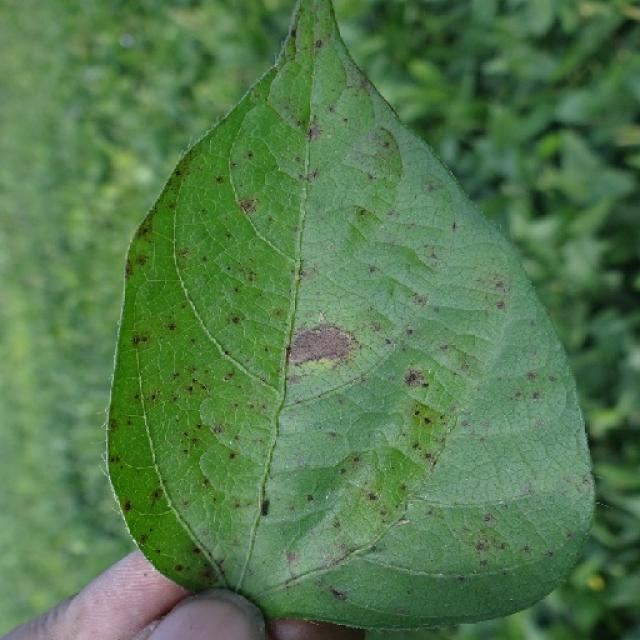Anthracnose: (293, 304, 372, 379), (468, 532, 507, 558), (395, 370, 430, 391), (181, 375, 209, 400), (200, 565, 217, 583), (297, 169, 317, 184), (328, 585, 347, 600), (239, 198, 256, 213), (423, 180, 441, 194), (211, 558, 226, 573), (285, 550, 299, 565), (307, 124, 320, 140), (132, 334, 149, 346), (413, 293, 428, 306), (286, 374, 302, 385), (135, 254, 148, 267), (124, 260, 133, 278), (283, 344, 292, 361), (150, 489, 162, 501), (261, 498, 269, 516), (526, 371, 538, 382), (394, 607, 408, 615), (496, 300, 506, 311), (475, 541, 486, 551), (358, 207, 368, 218), (370, 322, 381, 332), (122, 500, 131, 512), (224, 371, 235, 380), (581, 475, 590, 486), (166, 322, 176, 331), (367, 492, 377, 501), (213, 425, 223, 434), (531, 391, 541, 400), (483, 513, 493, 522), (314, 39, 323, 49), (366, 172, 376, 181), (368, 265, 377, 274), (423, 416, 432, 425), (228, 451, 237, 460), (174, 563, 183, 572), (523, 487, 532, 496), (231, 316, 240, 324), (215, 176, 224, 184), (522, 545, 531, 553), (140, 534, 148, 543), (479, 559, 488, 567), (457, 575, 466, 583), (451, 222, 458, 232), (290, 29, 297, 39), (405, 328, 413, 336), (306, 494, 314, 502), (328, 105, 336, 113), (461, 420, 469, 428), (193, 547, 202, 554), (545, 550, 554, 557), (424, 452, 432, 459), (383, 140, 390, 148), (150, 394, 157, 402), (174, 170, 182, 177), (232, 287, 239, 294), (247, 151, 253, 158), (342, 117, 348, 124), (188, 386, 194, 392), (223, 350, 229, 355)
Blackgram: (109, 0, 592, 628)
